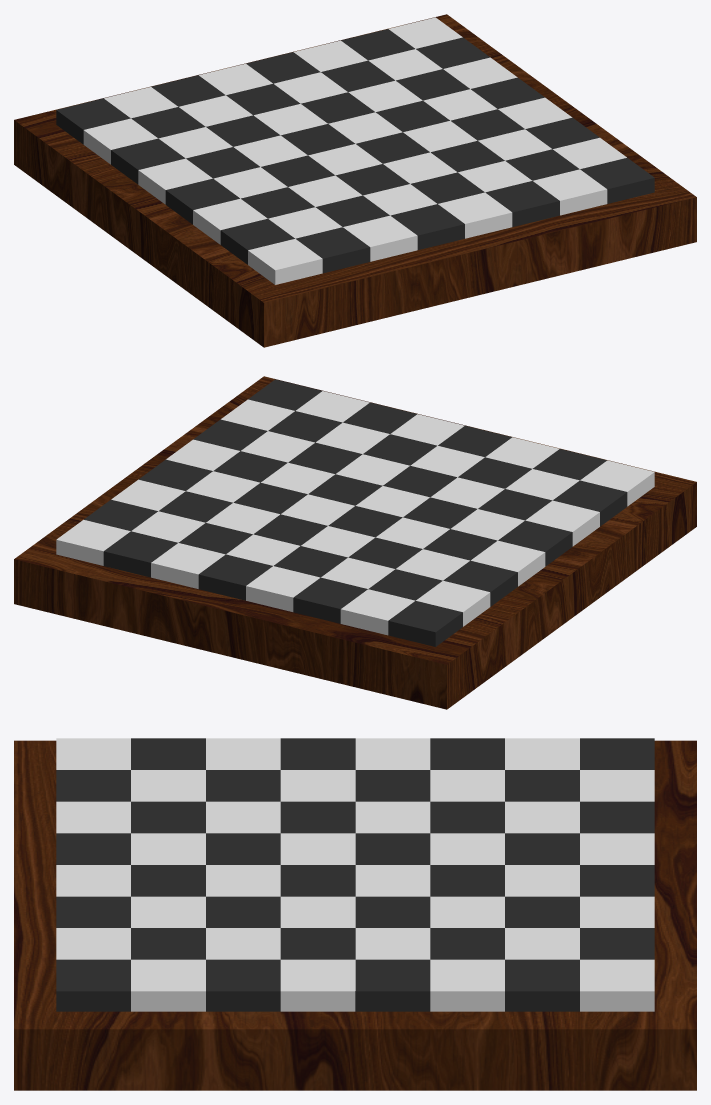
File: board2.fbx
3 views of the same model, one above another, from view 1: azimuth 30°, elevation 25°; view 2: azimuth 150°, elevation 25°; view 3: azimuth 270°, elevation 25° (orthographic). The views are drawn at different scales.
Parts seen in each view (by area): view 1: GameBoard, platform; view 2: GameBoard, platform; view 3: GameBoard, platform.
Part boxes in pixels (bbox=[...]): GameBoard: bbox=[56, 17, 654, 284]; platform: bbox=[14, 14, 696, 347]; GameBoard: bbox=[56, 379, 654, 646]; platform: bbox=[14, 376, 696, 709]; GameBoard: bbox=[56, 738, 654, 1011]; platform: bbox=[14, 740, 696, 1090].
Size of the model in its own units: 915 by 120 by 915.
